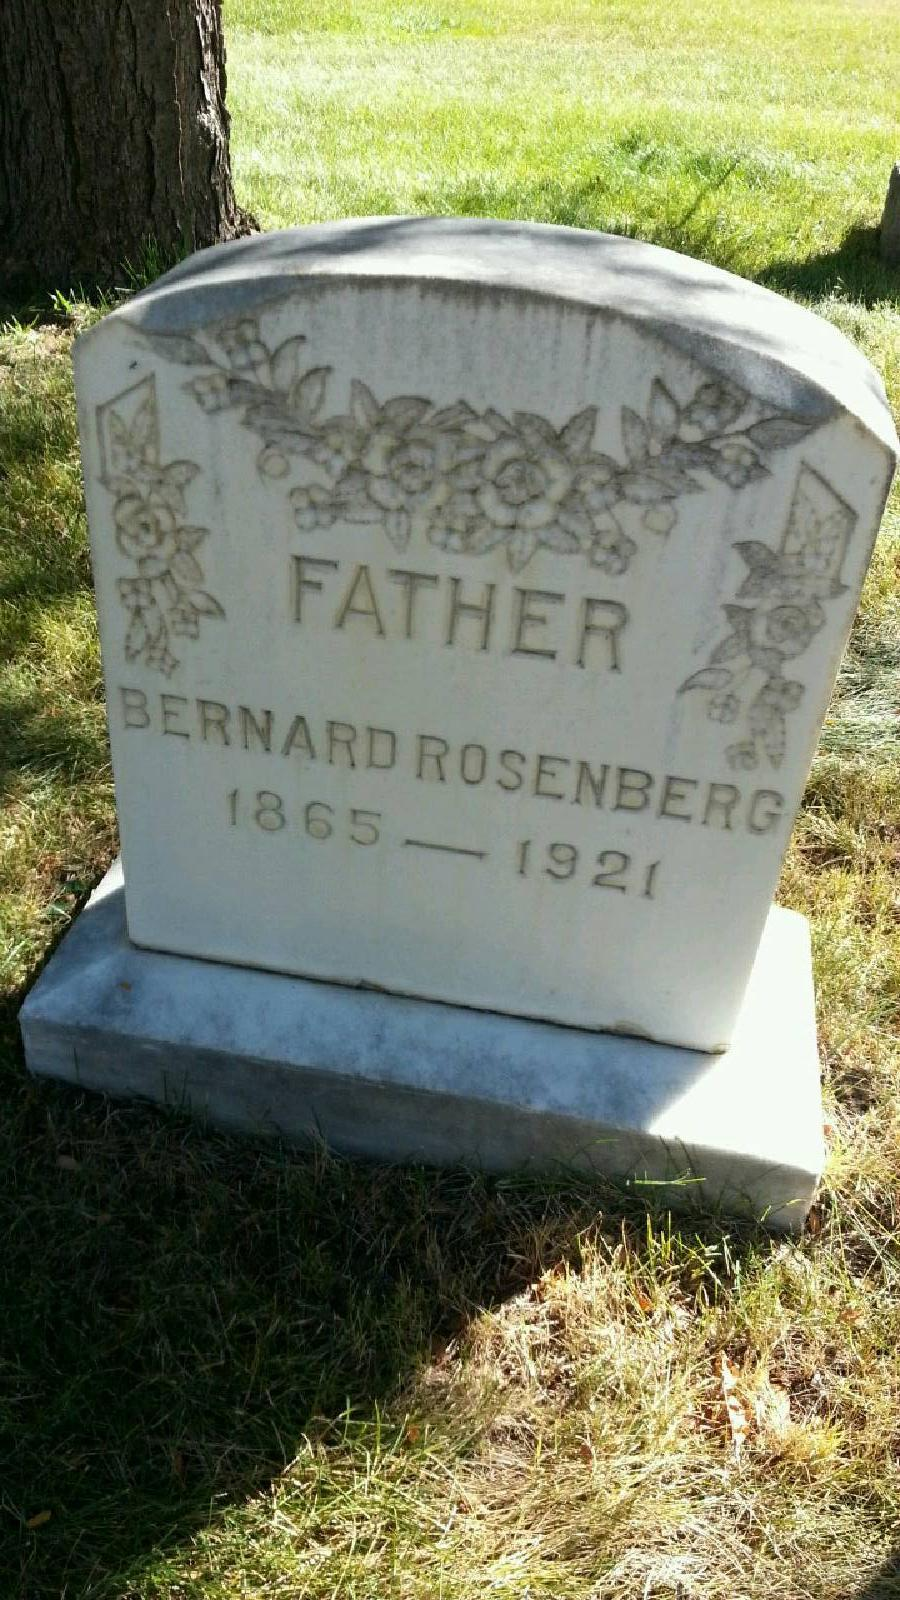upright: (22, 195, 887, 1240)
